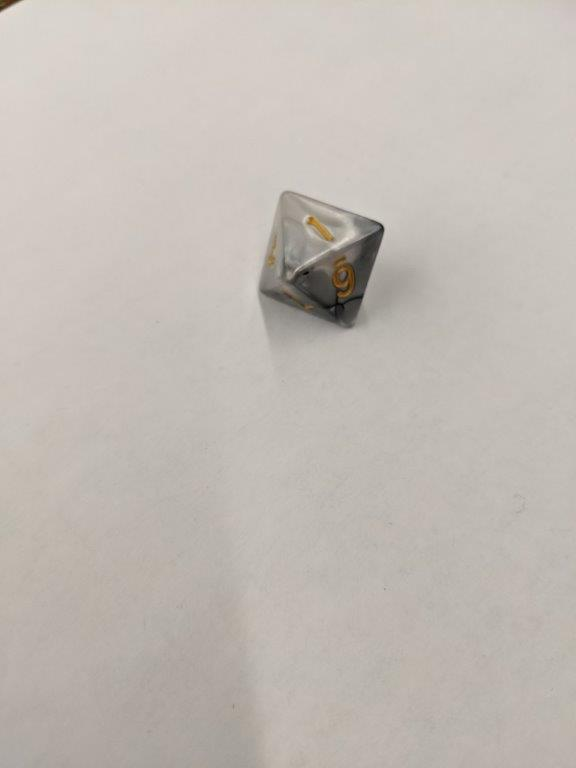d8-1: (254, 188, 386, 333)
